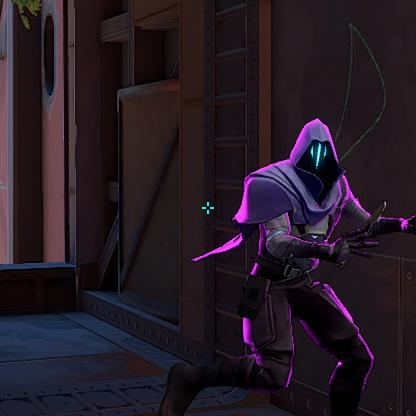enemyBody: (270, 176, 326, 267)
enemyHead: (301, 133, 330, 165)
